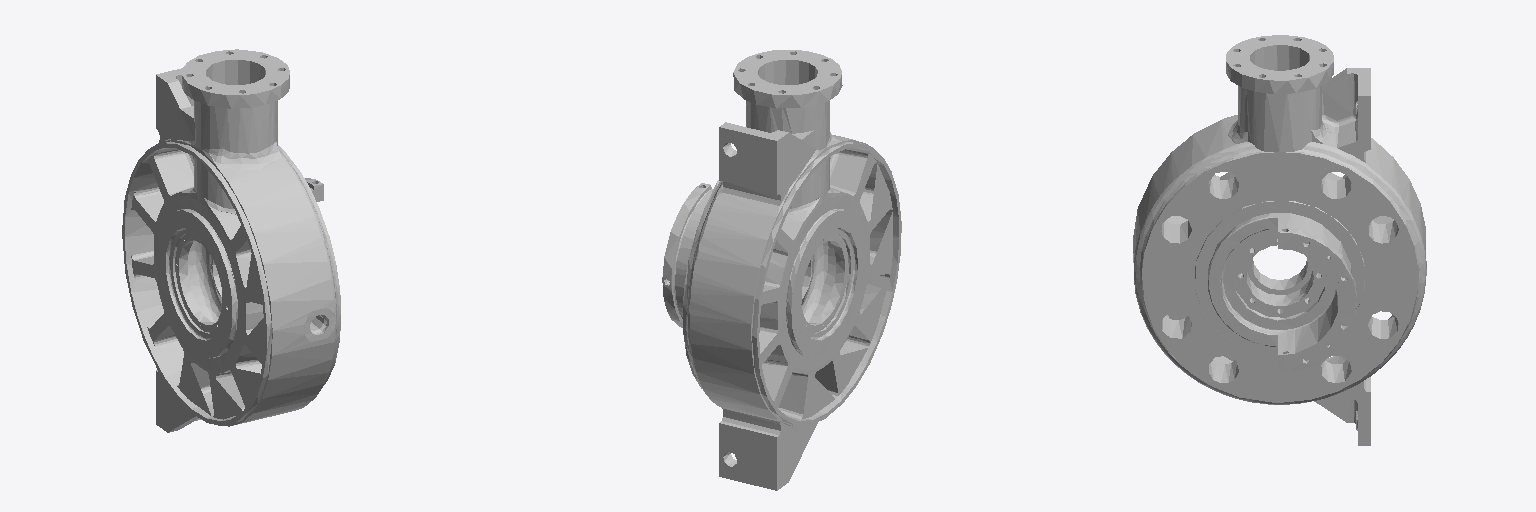
The model's file is suction cover.obj.
The picture shows the model from 3 angles: view 1: azimuth 30°, elevation 25°; view 2: azimuth 150°, elevation 25°; view 3: azimuth 270°, elevation 25°; orthographic projection.
Parts seen in each view (by area): view 1: imagetostl_mesh; view 2: imagetostl_mesh; view 3: imagetostl_mesh.
Part boxes in pixels (left/top/right/bottom): imagetostl_mesh: left=122, top=49, right=340, bottom=432; imagetostl_mesh: left=662, top=50, right=901, bottom=490; imagetostl_mesh: left=1133, top=35, right=1426, bottom=445.
Size of the model in its own units: 418 by 1120 by 790.